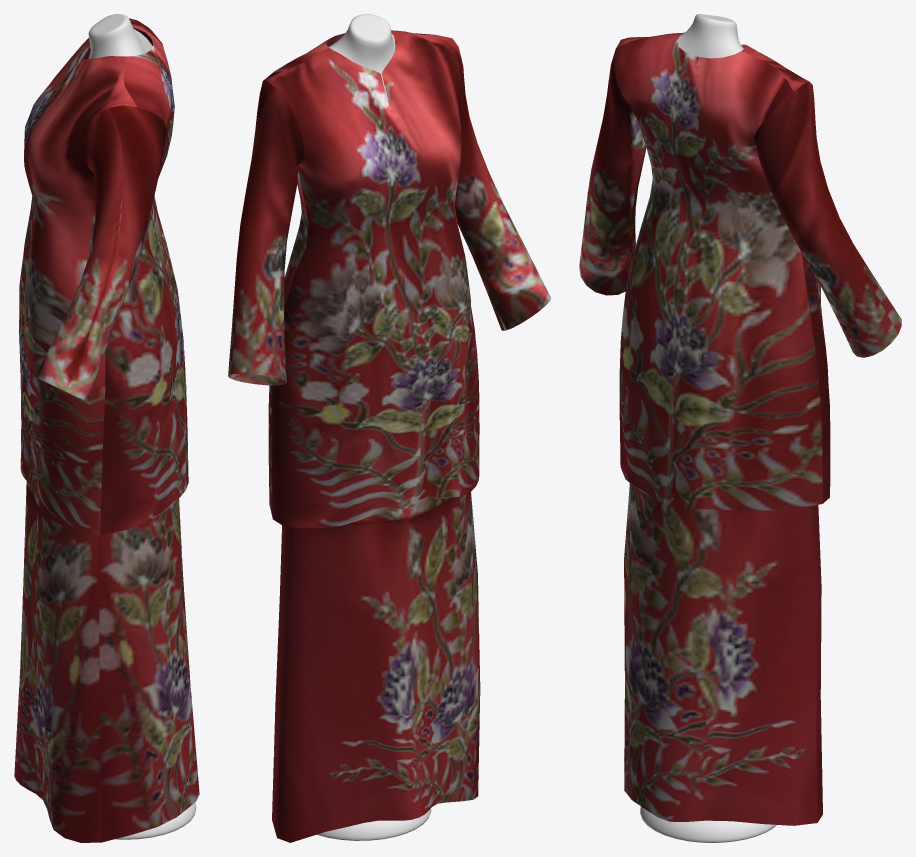
3 renders of one model, left to right at view 1: azimuth 30°, elevation 25°; view 2: azimuth 150°, elevation 25°; view 3: azimuth 270°, elevation 25°, orthographic.
Parts seen in each view (by area): view 1: MYM-02_Baju Kurung Batik; view 2: MYM-02_Baju Kurung Batik; view 3: MYM-02_Baju Kurung Batik.
Boxes of the visible parts, x1,y1,x2,y2 form: MYM-02_Baju Kurung Batik: [14, 14, 199, 842]; MYM-02_Baju Kurung Batik: [228, 14, 550, 842]; MYM-02_Baju Kurung Batik: [579, 14, 901, 842].
Size of the model in its own units: 43.03 by 161 by 59.1.
Materials: 2 (1 with a texture image).
